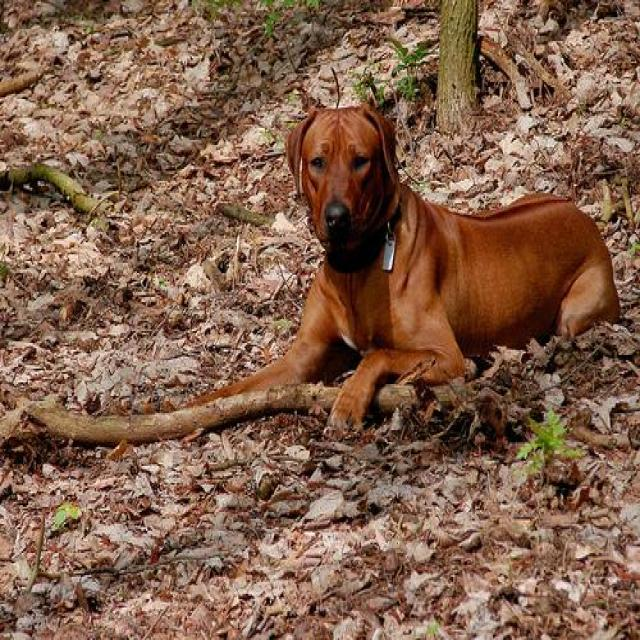rhodesian_ridgeback: (187, 97, 625, 422)
